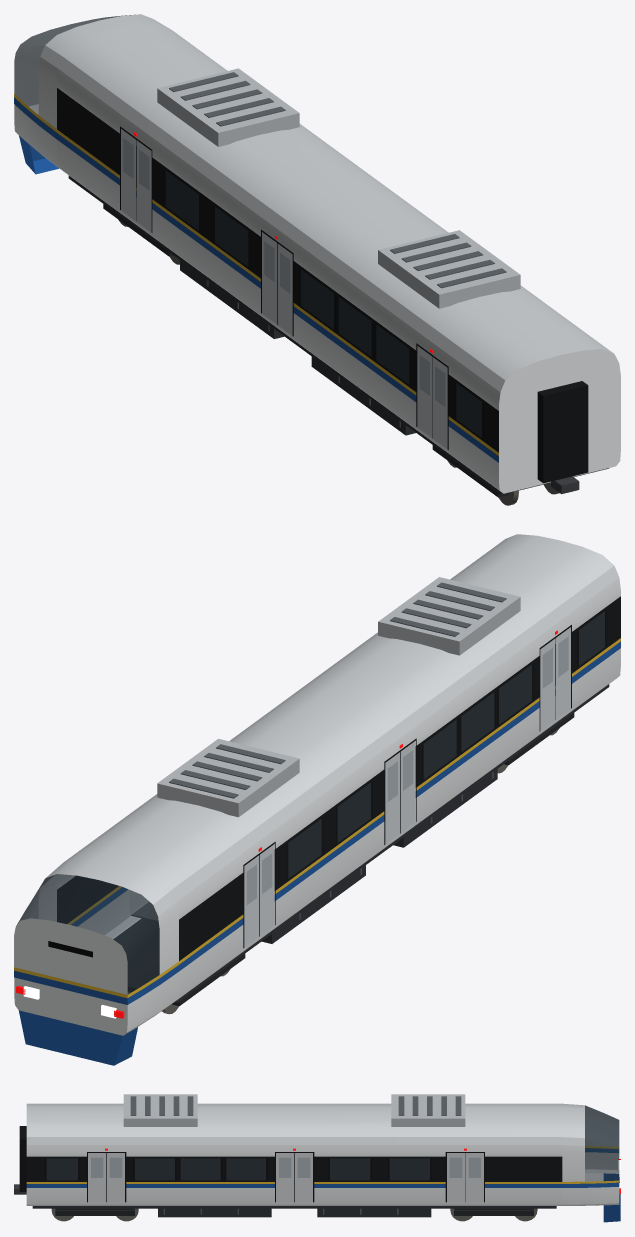
File: emu800-lead.glb
3 renders of one model, top to bottom at view 1: azimuth 30°, elevation 25°; view 2: azimuth 150°, elevation 25°; view 3: azimuth 270°, elevation 25°, orthographic. The views are drawn at different scales.
Visible parts, largest first — view 1: EMU800_Lead; view 2: EMU800_Lead; view 3: EMU800_Lead.
Boxes of the visible parts, <box> form: EMU800_Lead: <box>14,14,620,505</box>; EMU800_Lead: <box>14,534,620,1065</box>; EMU800_Lead: <box>14,1094,620,1222</box>.
Size of the model in its own units: 3.08 by 4.17 by 21.31.
